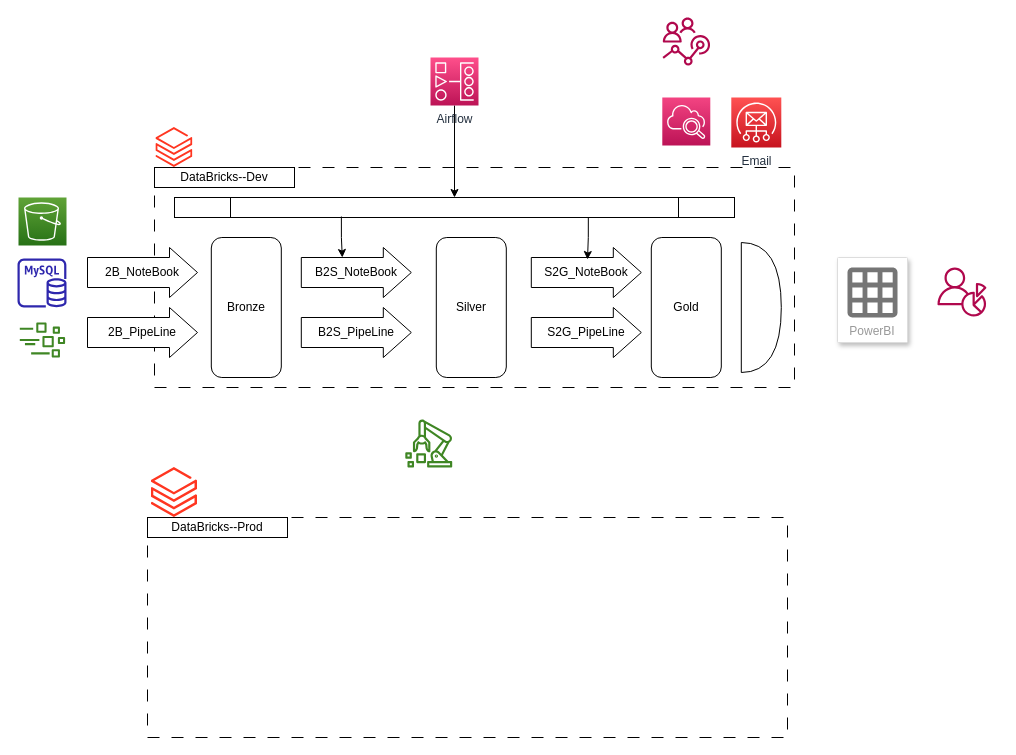
Some shapes in this 1016 by 755 pixel diagram are drawn without their labels. The shapes that lost their labels are listed below. From the top down, each one's centre as x and y in pixels, then its label:
(x=686, y=41): AMS
(x=685, y=121): cloudWatch
(x=454, y=207): DataBricks--Job
(x=760, y=307): Read Only User
(x=961, y=291): Data Scientist
(x=42, y=339): Stream
(x=428, y=443): CICD(jenkins)
